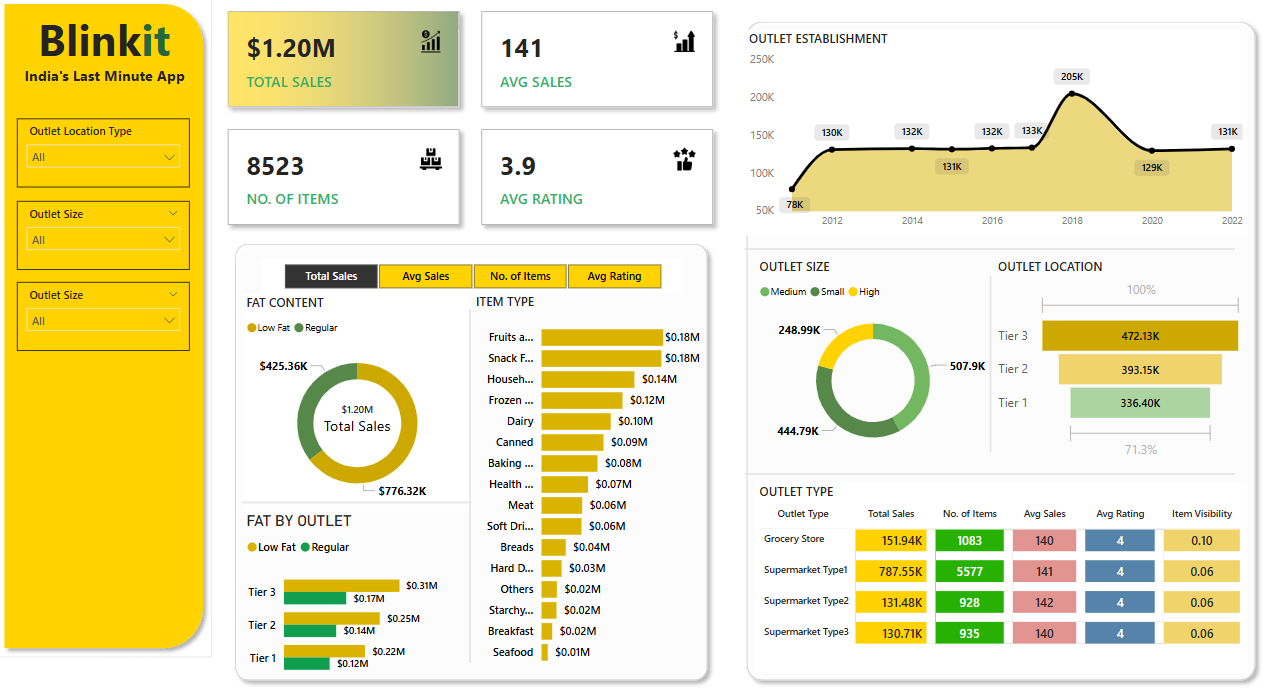

The page's visual inventory and layout, read from the dashboard file:
{"tool":"powerbi","page":{"name":"Page 1","canvas":[1400,800],"ordinal":0},"visuals":[{"type":"shape","box":[10.3,0,205,780.4],"z":0},{"type":"textbox","box":[24.1,19,174,77.5],"z":1000},{"type":"textbox","box":[19,79.2,179.2,34.5],"z":2000},{"type":"cardVisual","fields":{"Data":["BlinkIT Grocery Data.Total Sales","BlinkIT Grocery Data.Avg Sales","BlinkIT Grocery Data.No of Items","BlinkIT Grocery Data.Avg Rating"]},"box":[215.3,0,640.9,289.4],"z":3000},{"type":"shape","box":[215.3,272.2,640.9,508.2],"z":4000},{"type":"donutChart","title":"FAT CONTENT","fields":{"Y":["BlinkIT Grocery Data.Total Sales"],"Category":["BlinkIT Grocery Data.Item Fat Content"]},"box":[236,329,222.2,232.6],"z":5000},{"type":"slicer","fields":{"Values":["Metrics.Metrics"]},"box":[255,289.4,534.1,39.6],"z":6000},{"type":"cardVisual","fields":{"Data":["BlinkIT Grocery Data.Total Sales"]},"box":[272.2,432.4,151.6,74.1],"z":7000},{"type":"clusteredBarChart","title":"FAT BY OUTLET","fields":{"Y":["BlinkIT Grocery Data.Total Sales"],"Category":["BlinkIT Grocery Data.Outlet Location Type"],"Series":["BlinkIT Grocery Data.Item Fat Content"]},"box":[236,549.6,222.2,215.3],"z":8000},{"type":"shape","box":[236,532.3,222.2,32.7],"z":9000},{"type":"shape","box":[451.4,329,36.2,423.8],"z":10000},{"type":"barChart","title":"ITEM TYPE","fields":{"Y":["BlinkIT Grocery Data.Total Sales"],"Category":["BlinkIT Grocery Data.Item Type"]},"box":[470.3,329,361.8,435.9],"z":11000},{"type":"shape","box":[856.2,0,544.4,780.4],"z":12000},{"type":"lineChart","title":"OUTLET ESTABLISHMENT","fields":{"Category":["BlinkIT Grocery Data.Outlet Establishment Year"],"Y":["BlinkIT Grocery Data.Total Sales"]},"box":[878.8,22.8,503.8,242.9],"z":13000},{"type":"shape","box":[875.6,252.7,485.9,34.2],"z":14000},{"type":"donutChart","title":"OUTLET SIZE","fields":{"Y":["BlinkIT Grocery Data.Total Sales"],"Category":["BlinkIT Grocery Data.Outlet Size"]},"box":[878.6,273.9,258.4,241.2],"z":15000},{"type":"shape","box":[1110.3,287,35.9,203.8],"z":16000},{"type":"funnel","title":"OUTLET LOCATION","fields":{"Y":["Sum(BlinkIT Grocery Data.Sales)"],"Category":["BlinkIT Grocery Data.Outlet Location Type"]},"box":[1137,273.9,246.4,232.6],"z":17000},{"type":"shape","box":[883.7,494,498.9,32.6],"z":18000},{"type":"pivotTable","title":"OUTLET TYPE","fields":{"Rows":["BlinkIT Grocery Data.Outlet Type"],"Values":["BlinkIT Grocery Data.Total Sales","BlinkIT Grocery Data.No of Items","BlinkIT Grocery Data.Avg Sales","BlinkIT Grocery Data.Avg Rating","Avg(BlinkIT Grocery Data.Item Visibility)"]},"box":[878.8,515.2,503.8,249.5],"z":19000},{"type":"slicer","fields":{"Values":["BlinkIT Grocery Data.Outlet Location Type"]},"box":[25.8,186.1,174,87.9],"z":20000},{"type":"slicer","fields":{"Values":["BlinkIT Grocery Data.Outlet Size"]},"box":[25.8,289.4,174,87.9],"z":21000},{"type":"slicer","fields":{"Values":["BlinkIT Grocery Data.Item Type"]},"box":[27.6,391.1,174,87.9],"z":22000}]}

Visuals, with their boxes on the page's 1400x800 design canvas (x1, y1, x2, y2). These are canvas units, not pixel positions in the 1263x688 screenshot, which may show the page scaled, cropped or inside an application window:
shape: <bbox>10, 0, 215, 780</bbox>
textbox: <bbox>24, 19, 198, 96</bbox>
textbox: <bbox>19, 79, 198, 114</bbox>
cardVisual - BlinkIT Grocery Data.Total Sales x BlinkIT Grocery Data.Avg Sales: <bbox>215, 0, 856, 289</bbox>
shape: <bbox>215, 272, 856, 780</bbox>
"FAT CONTENT" donutChart: <bbox>236, 329, 458, 562</bbox>
slicer - Metrics.Metrics: <bbox>255, 289, 789, 329</bbox>
cardVisual - BlinkIT Grocery Data.Total Sales: <bbox>272, 432, 424, 506</bbox>
"FAT BY OUTLET" clusteredBarChart: <bbox>236, 550, 458, 765</bbox>
shape: <bbox>236, 532, 458, 565</bbox>
shape: <bbox>451, 329, 488, 753</bbox>
"ITEM TYPE" barChart: <bbox>470, 329, 832, 765</bbox>
shape: <bbox>856, 0, 1401, 780</bbox>
"OUTLET ESTABLISHMENT" lineChart: <bbox>879, 23, 1383, 266</bbox>
shape: <bbox>876, 253, 1362, 287</bbox>
"OUTLET SIZE" donutChart: <bbox>879, 274, 1137, 515</bbox>
shape: <bbox>1110, 287, 1146, 491</bbox>
"OUTLET LOCATION" funnel: <bbox>1137, 274, 1383, 506</bbox>
shape: <bbox>884, 494, 1383, 527</bbox>
"OUTLET TYPE" pivotTable: <bbox>879, 515, 1383, 765</bbox>
slicer - BlinkIT Grocery Data.Outlet Location Type: <bbox>26, 186, 200, 274</bbox>
slicer - BlinkIT Grocery Data.Outlet Size: <bbox>26, 289, 200, 377</bbox>
slicer - BlinkIT Grocery Data.Item Type: <bbox>28, 391, 202, 479</bbox>
